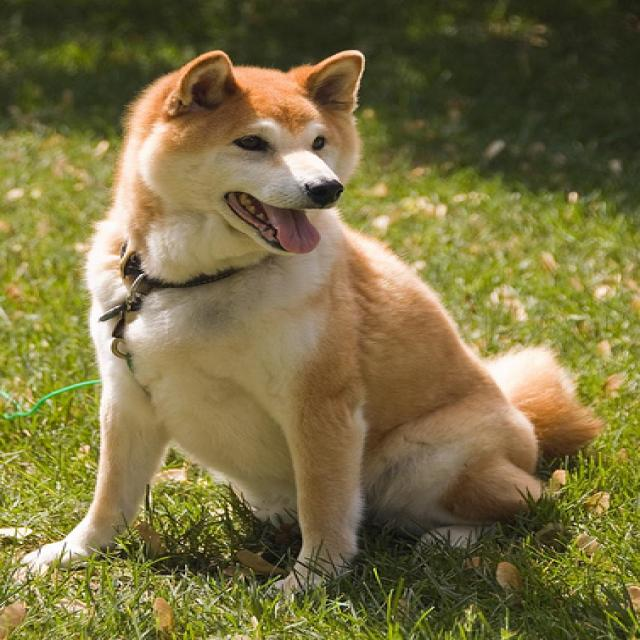dog: (134, 48, 363, 252)
